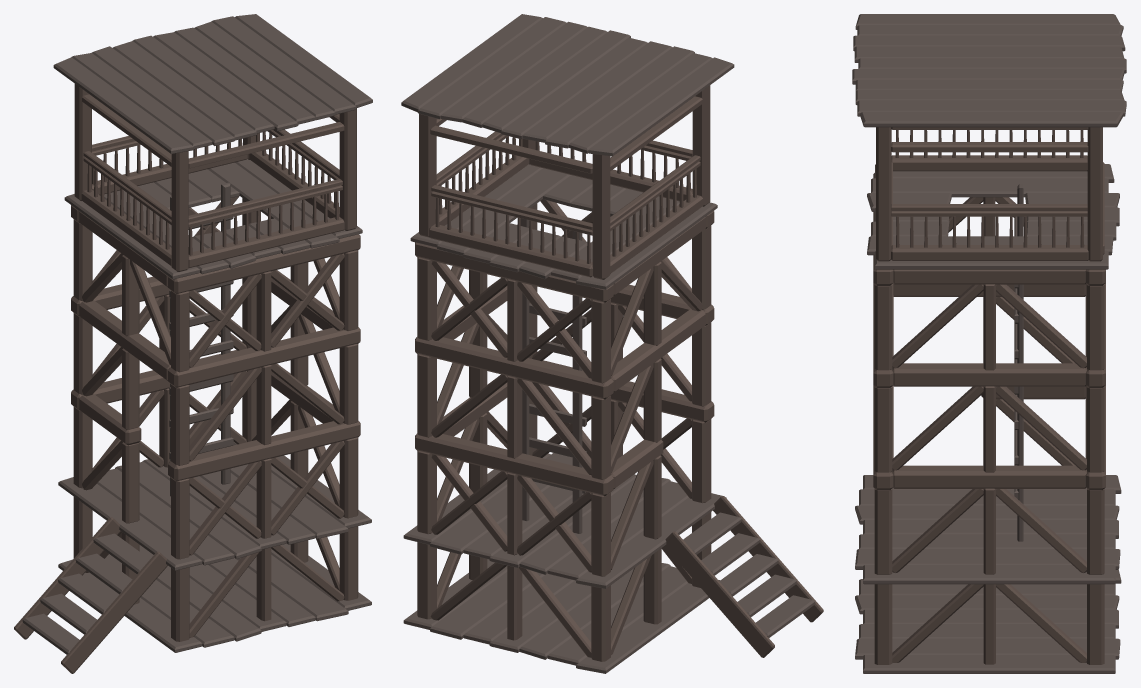
File: farmstractures_05.glb
3 renders of one model, left to right at view 1: azimuth 30°, elevation 25°; view 2: azimuth 150°, elevation 25°; view 3: azimuth 270°, elevation 25°, orthographic. The views are drawn at different scales.
Visible parts, largest first — view 1: farmstractures_05; view 2: farmstractures_05; view 3: farmstractures_05.
Part boxes in pixels (x1=…): farmstractures_05: x1=14, y1=14, x2=372, y2=673; farmstractures_05: x1=401, y1=14, x2=823, y2=673; farmstractures_05: x1=852, y1=14, x2=1126, y2=673.
Size of the model in its own units: 5.29 by 8.57 by 3.82.
1 material, 1 textured.
